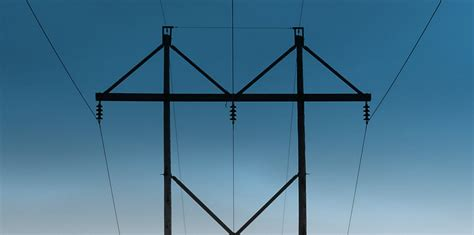pole: (81, 17, 239, 235)
